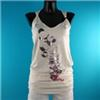canottiera: (28, 10, 74, 96)
